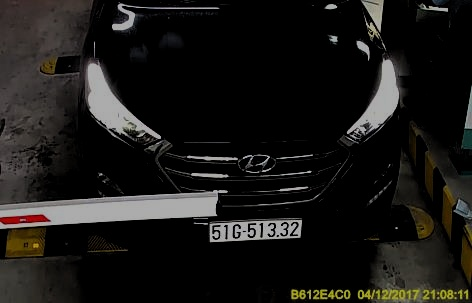plate: (210, 218, 301, 242)
